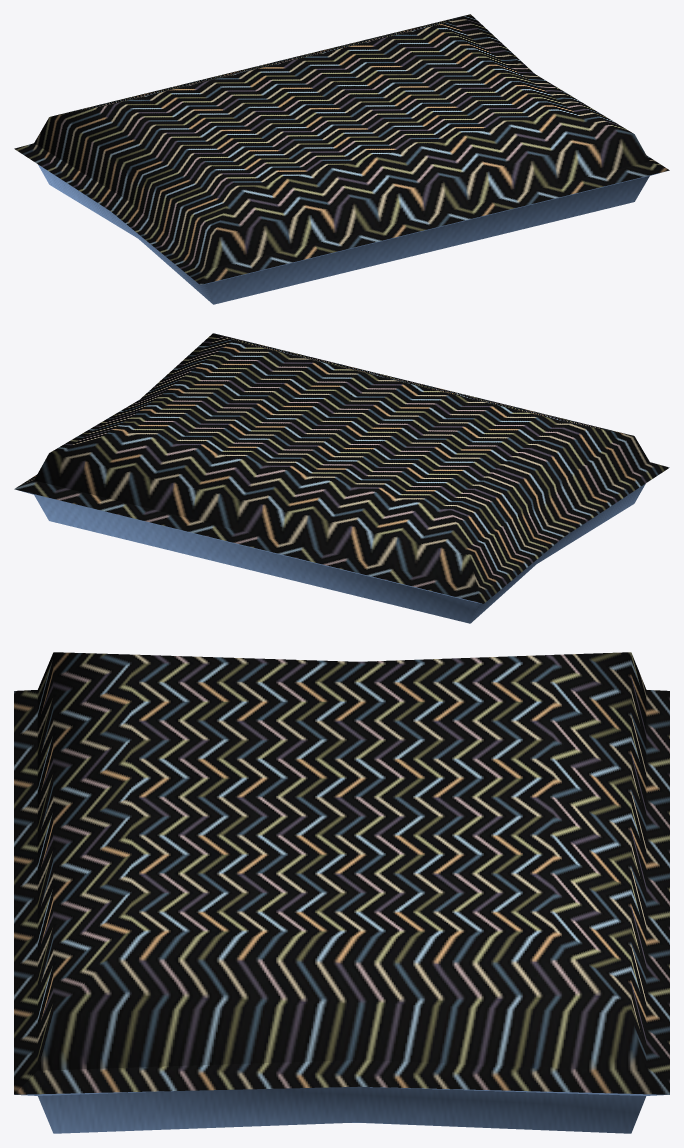
Rendered from Pillow_F.FBX.
3 views of the same model, one above another, from view 1: azimuth 30°, elevation 25°; view 2: azimuth 150°, elevation 25°; view 3: azimuth 270°, elevation 25° (orthographic). The views are drawn at different scales.
Visible parts, largest first — view 1: Pillow; view 2: Pillow; view 3: Pillow.
Boxes of the visible parts, x1,y1,x2,y2 form: Pillow: (14, 14, 669, 304); Pillow: (14, 333, 669, 623); Pillow: (14, 652, 669, 1133).
Size of the model in its own units: 194 by 41.64 by 133.
